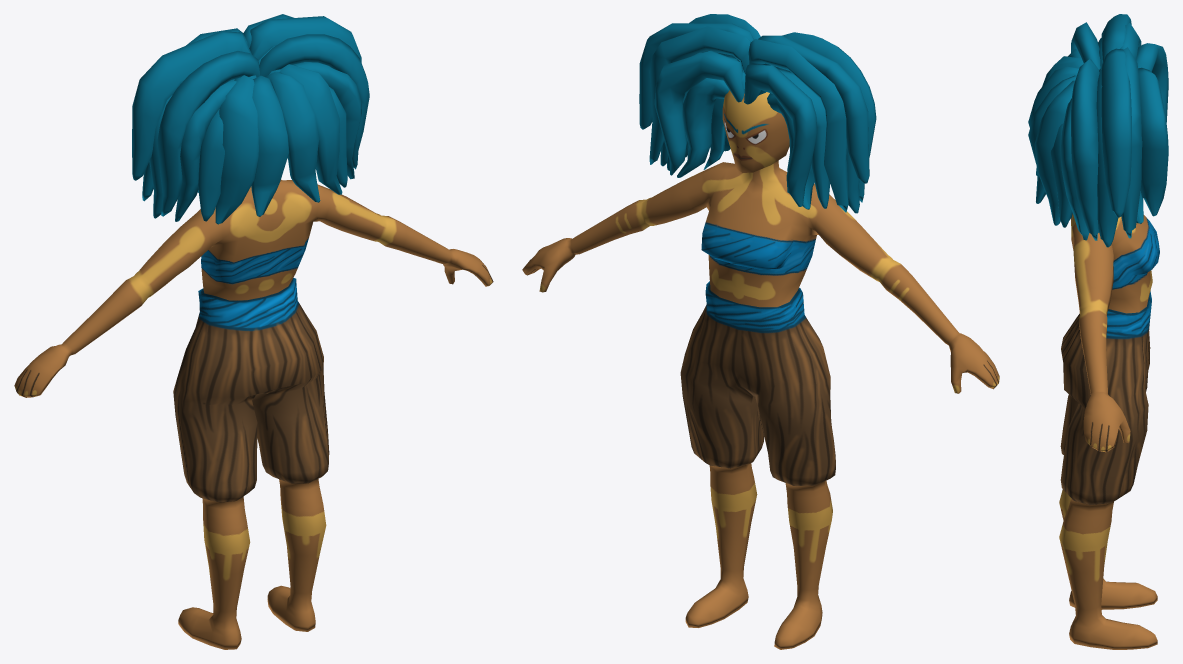
File: mesh_char_61.fbx
3 renders of one model, left to right at view 1: azimuth 30°, elevation 25°; view 2: azimuth 150°, elevation 25°; view 3: azimuth 270°, elevation 25°, orthographic. The views are drawn at different scales.
Visible parts, largest first — view 1: mesh_char_61; view 2: mesh_char_61; view 3: mesh_char_61.
Part boxes in pixels (x1,y1,x2,y2): mesh_char_61: [14, 14, 493, 649]; mesh_char_61: [522, 14, 999, 649]; mesh_char_61: [1028, 14, 1168, 649].
Bounding box in the file's own units: 8.34 × 10.01 × 2.19.
Materials: 1 (1 with a texture image).
